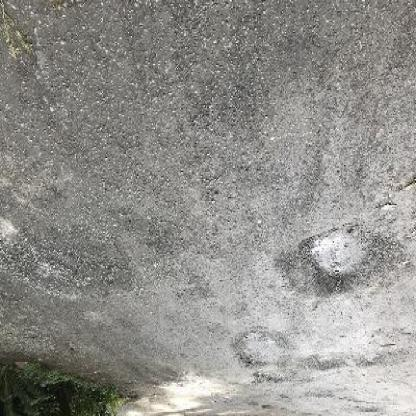pothole: (1, 224, 139, 304), (281, 223, 392, 299), (229, 331, 297, 373), (354, 327, 412, 371), (304, 353, 346, 374)
